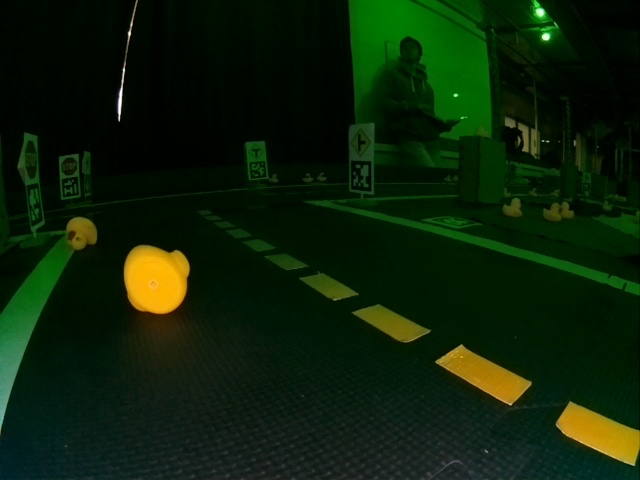Duckie: (124, 244, 189, 313), (65, 218, 96, 249), (505, 198, 522, 215), (543, 202, 560, 217), (562, 202, 572, 216), (317, 173, 327, 182), (302, 173, 311, 183), (268, 174, 277, 183)
Intersection sign: (349, 128, 370, 157), (248, 143, 263, 157)
QR code: (26, 182, 43, 229), (349, 161, 373, 193), (428, 215, 480, 228), (249, 160, 268, 180), (61, 178, 79, 197)
Stop sign: (25, 139, 38, 181), (60, 155, 79, 175)
